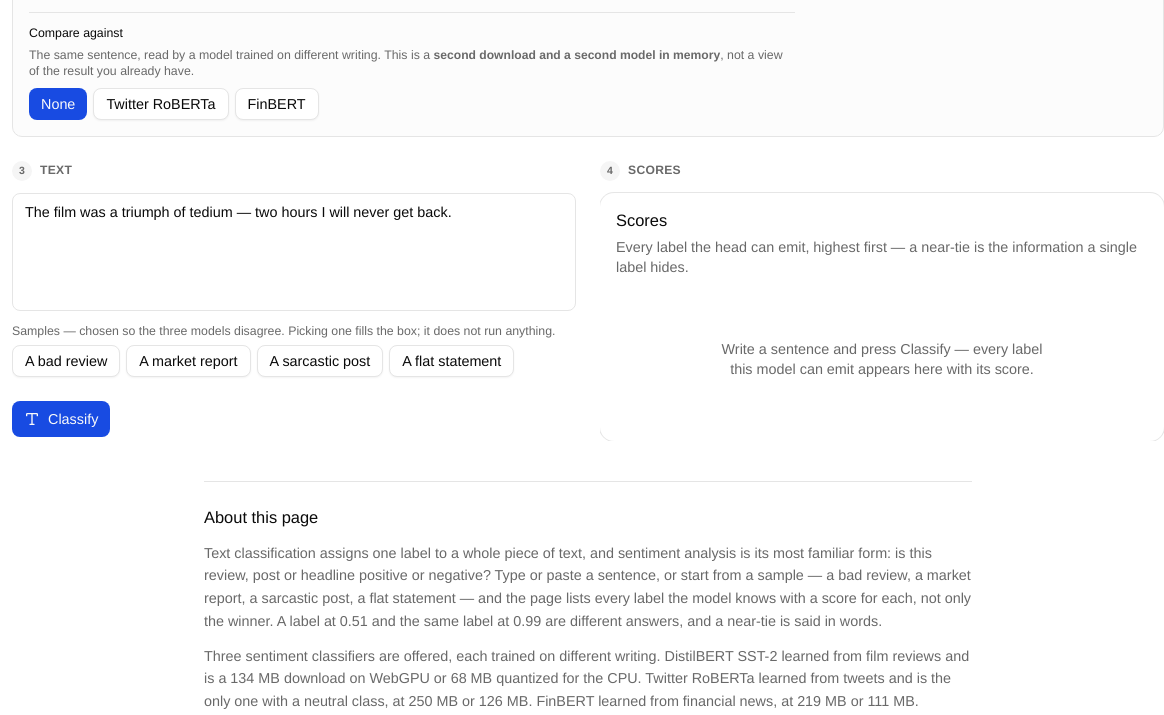
Test: TextClassificationPage › runs nothing when a sample is picked — it only fills the box
(page scrolled)
Click the button "A market report": (188,360) [126,344,251,376]
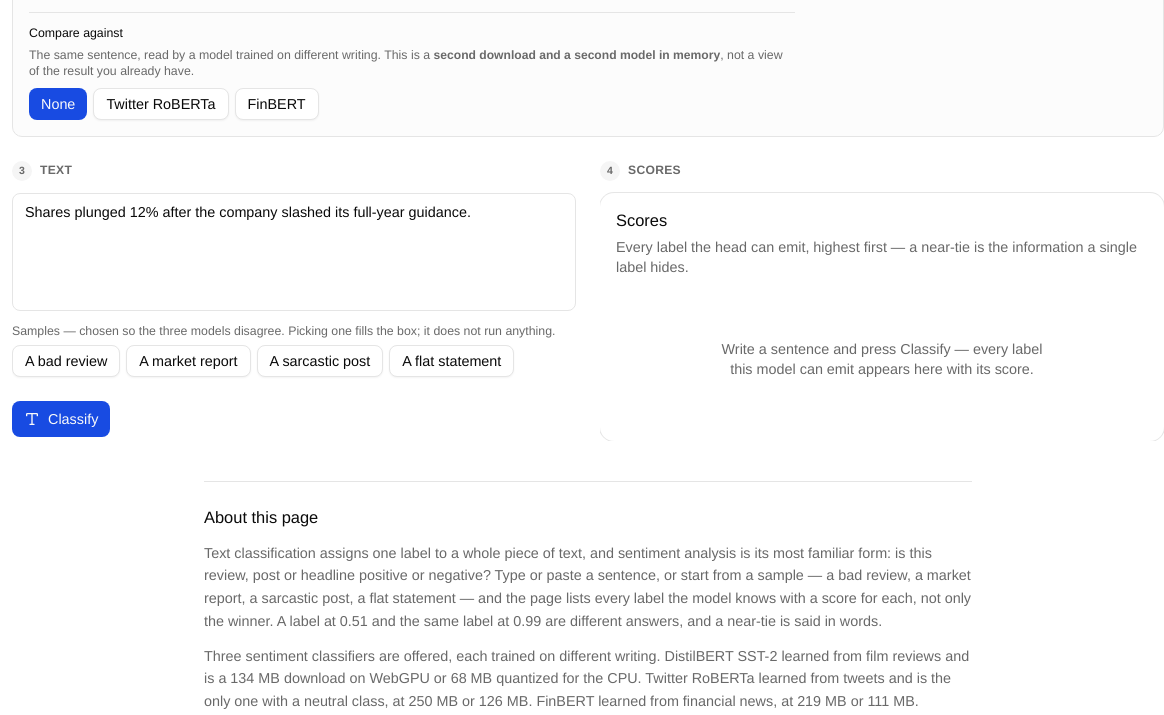
Expected: the text with test id "output-empty" is shown, [722,340,1042,378]
Expected: the text box named "text to classify" holds "Shares plunged 12% after the company slashed its full-year guidance.", [12,192,576,310]
